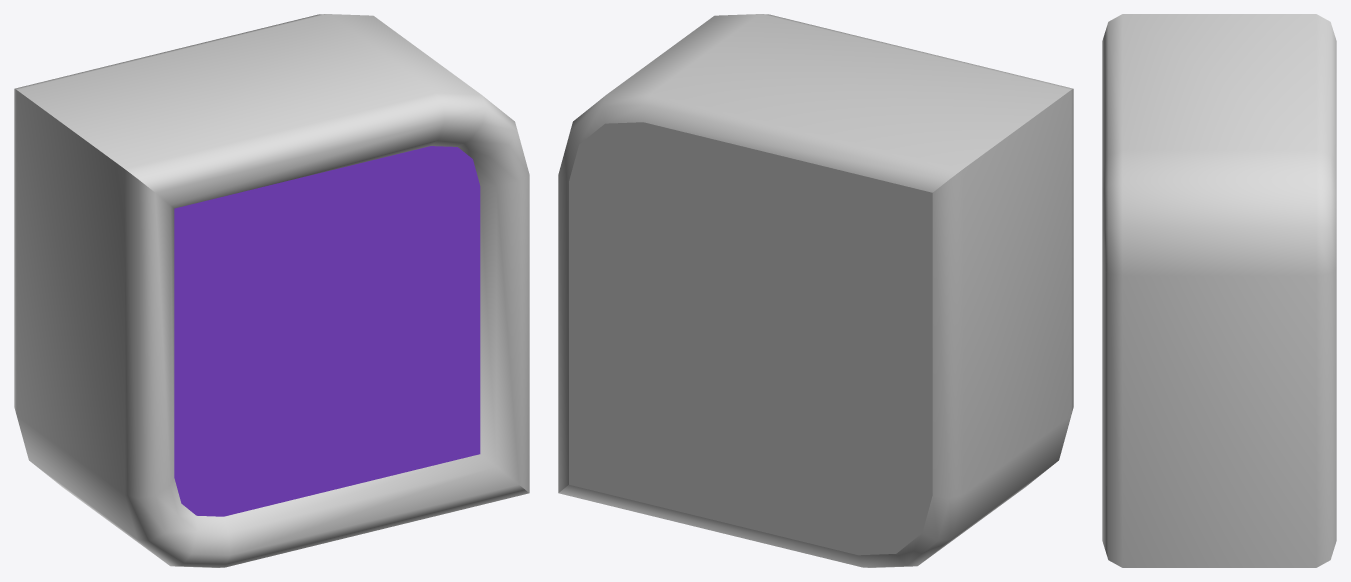
The model's file is Phone_Default_Icon.gltf.
3 renders of one model, left to right at view 1: azimuth 30°, elevation 25°; view 2: azimuth 150°, elevation 25°; view 3: azimuth 270°, elevation 25°, orthographic. The views are drawn at different scales.
Visible parts, largest first — view 1: Cube; view 2: Cube; view 3: Cube.
Part boxes in pixels (bbox=[...]): Cube: bbox=[14, 14, 529, 567]; Cube: bbox=[558, 14, 1073, 567]; Cube: bbox=[1102, 14, 1336, 567].
Bounding box in the file's own units: 2 × 2 × 1.12.
